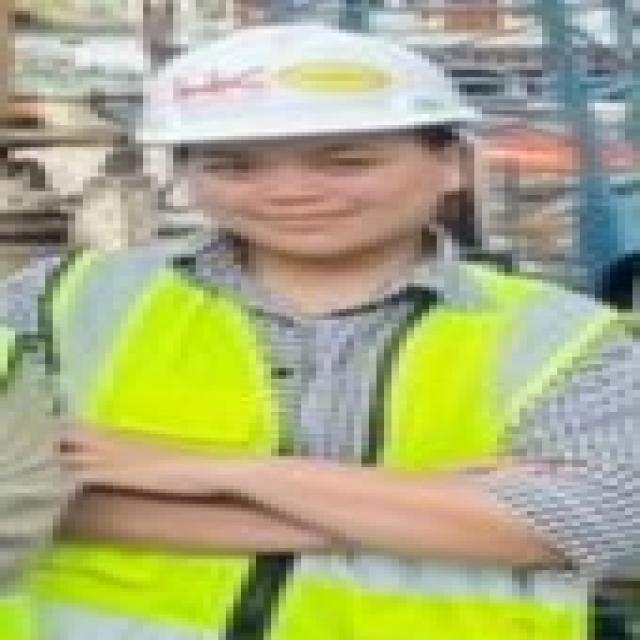safetyhelmet: (103, 18, 490, 219)
